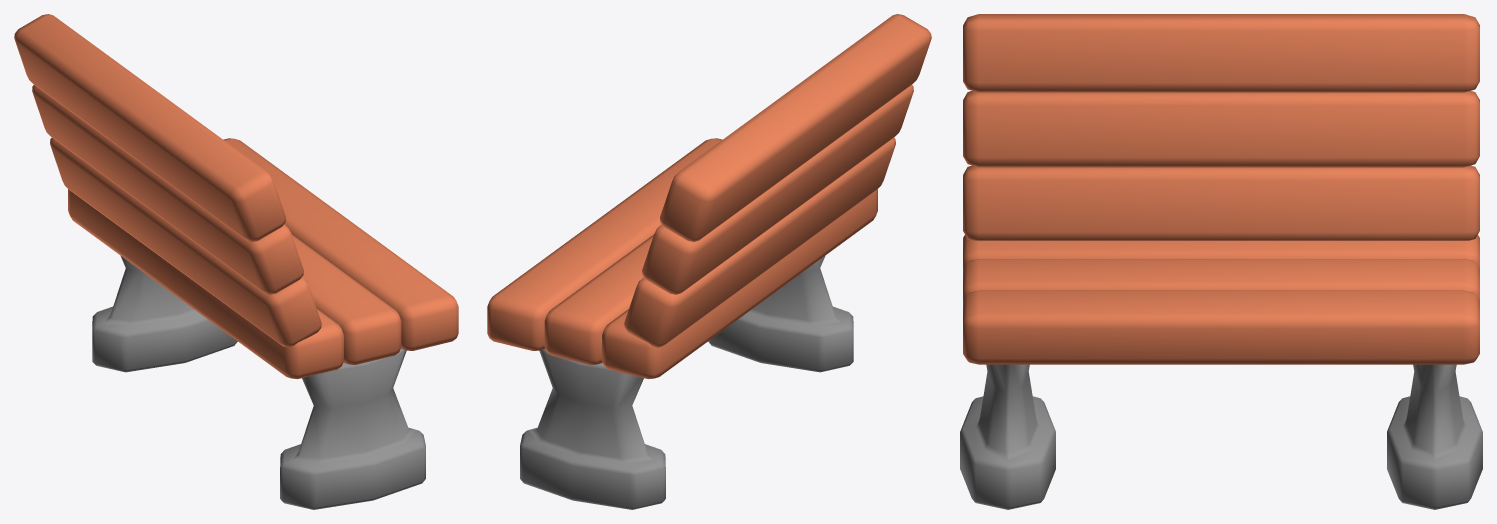
File: SM_Bank.fbx
3 views of the same model, side by side, from view 1: azimuth 30°, elevation 25°; view 2: azimuth 150°, elevation 25°; view 3: azimuth 270°, elevation 25° (orthographic). The views are drawn at different scales.
Parts seen in each view (by area): view 1: SM_Bank; view 2: SM_Bank; view 3: SM_Bank.
Boxes of the visible parts, x1,y1,x2,y2 form: SM_Bank: (14, 14, 458, 509); SM_Bank: (487, 14, 931, 509); SM_Bank: (960, 14, 1482, 509).
Bounding box in the file's own units: 231 × 344 × 408.
